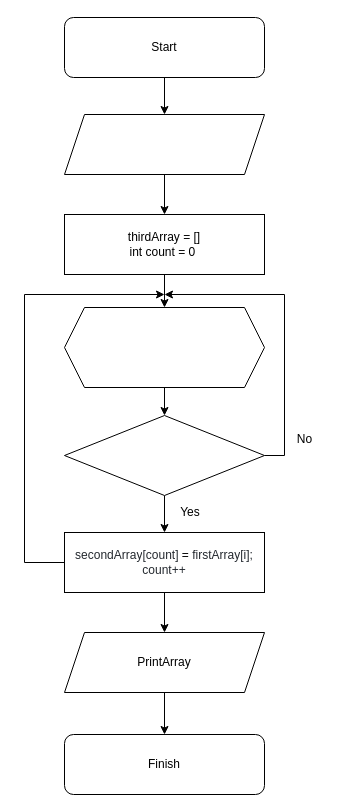
This 342x812 diagram has some shape labels left out. Each missing label, with the centre of its shape:
"for (int i = 0; i < firstArray . Length ; i ++)" goes at pixel 164 347.
"if firstArray [ i ]. Length <= 3" goes at pixel 164 455.
"string[] firstArray string secondArray" goes at pixel 164 144.
